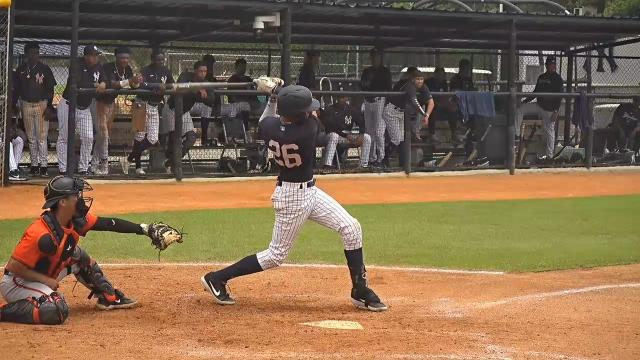bat: (170, 81, 256, 93)
